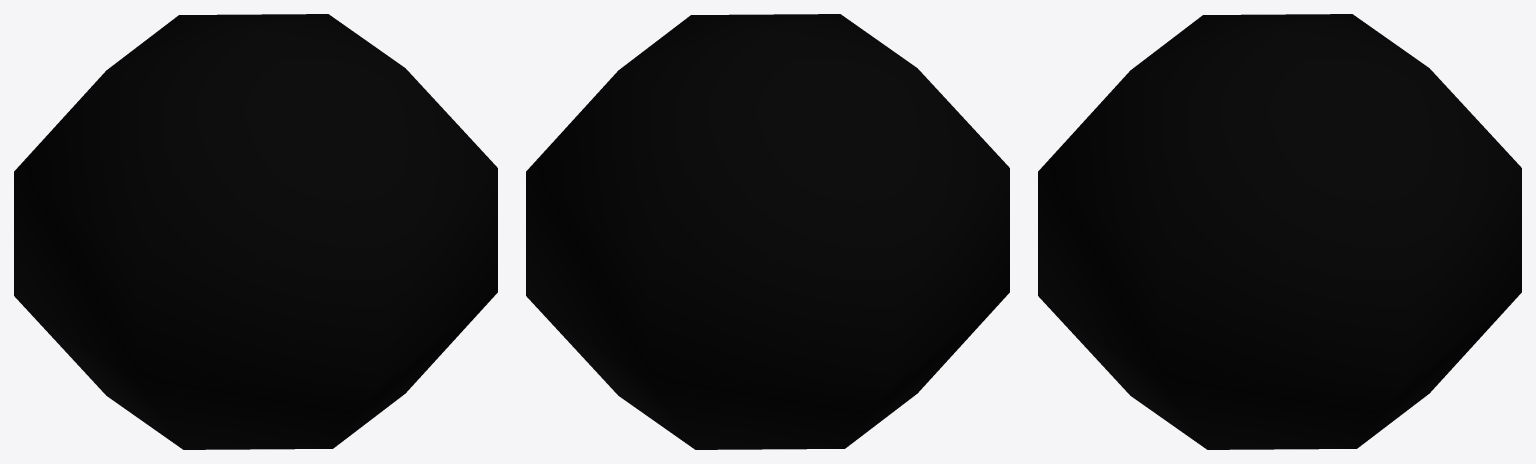
Rendered from bubble_solid_sphere8.glb.
3 renders of one model, left to right at view 1: azimuth 30°, elevation 25°; view 2: azimuth 150°, elevation 25°; view 3: azimuth 270°, elevation 25°, orthographic.
Visible parts, largest first — view 1: bubble_solid_texture.png__; view 2: bubble_solid_texture.png__; view 3: bubble_solid_texture.png__.
Boxes of the visible parts, x1=… form: bubble_solid_texture.png__: x1=14, y1=14, x2=497, y2=449; bubble_solid_texture.png__: x1=526, y1=14, x2=1009, y2=449; bubble_solid_texture.png__: x1=1038, y1=14, x2=1521, y2=449.
Bounding box in the file's own units: 7.33 × 7.68 × 8.38.
Materials: 1 (1 with a texture image).
